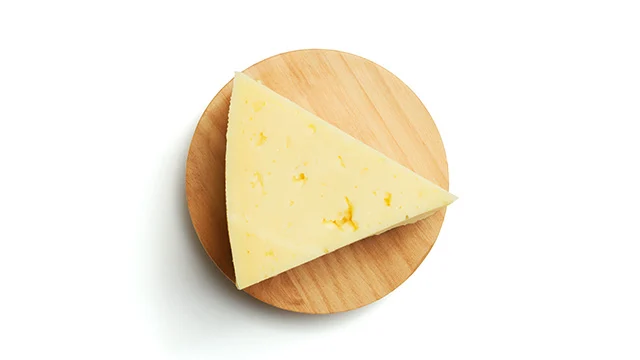cheese: (211, 54, 462, 309)
